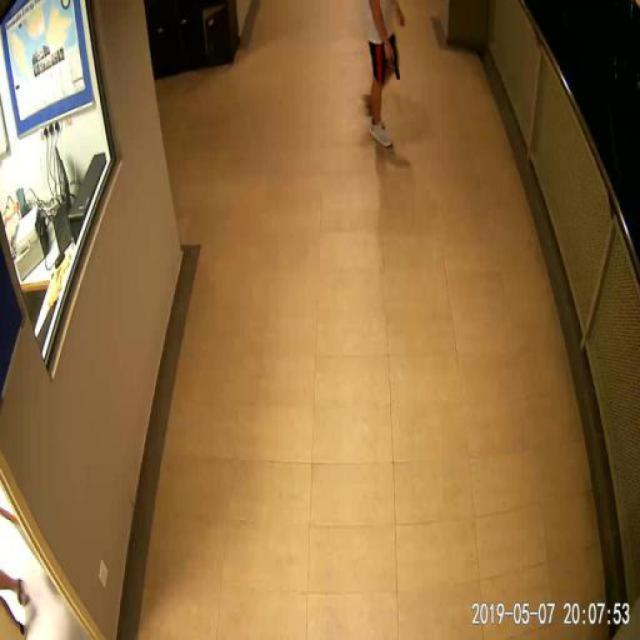pistol: (381, 40, 399, 80)
